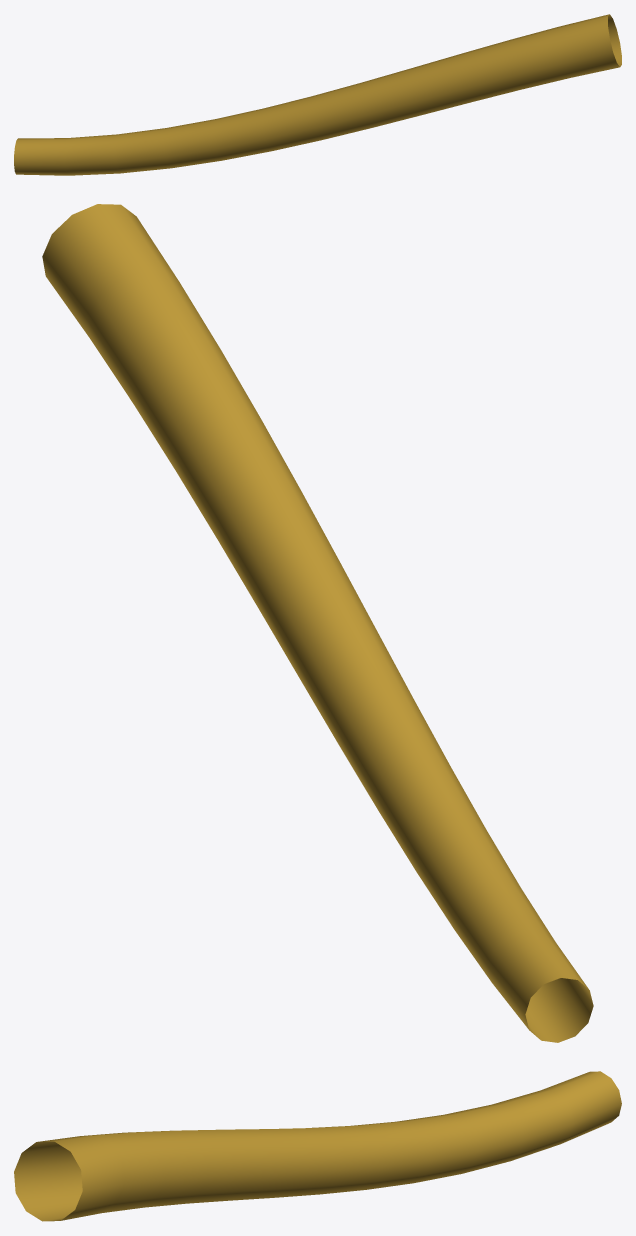
The picture shows the model from 3 angles, top to bottom: view 1: azimuth 30°, elevation 25°; view 2: azimuth 150°, elevation 25°; view 3: azimuth 270°, elevation 25°; orthographic projection. The views are drawn at different scales.
Parts seen in each view (by area): view 1: 右侧臂丛中干前股; view 2: 右侧臂丛中干前股; view 3: 右侧臂丛中干前股.
Part boxes in pixels (box(x1,y1,x2,y2)): 右侧臂丛中干前股: box(14, 14, 621, 175); 右侧臂丛中干前股: box(42, 204, 593, 1042); 右侧臂丛中干前股: box(14, 1071, 621, 1221).
Bounding box in the file's own units: 0.0412 × 0.0168 × 0.0325.
